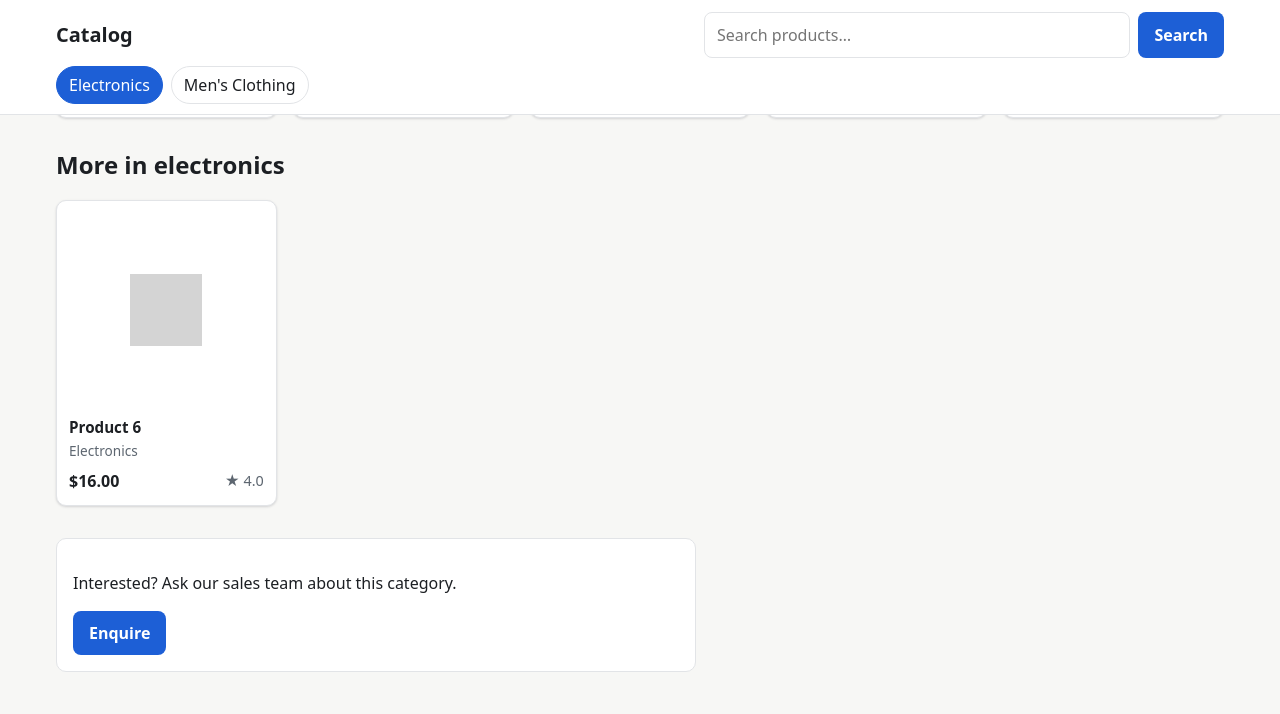
Test: Category page › renders top-rated and additional sections and a category enquiry form
(page scrolled)
Step 1. Click the button "Enquire" → x=120, y=633, box [73,611,166,655]
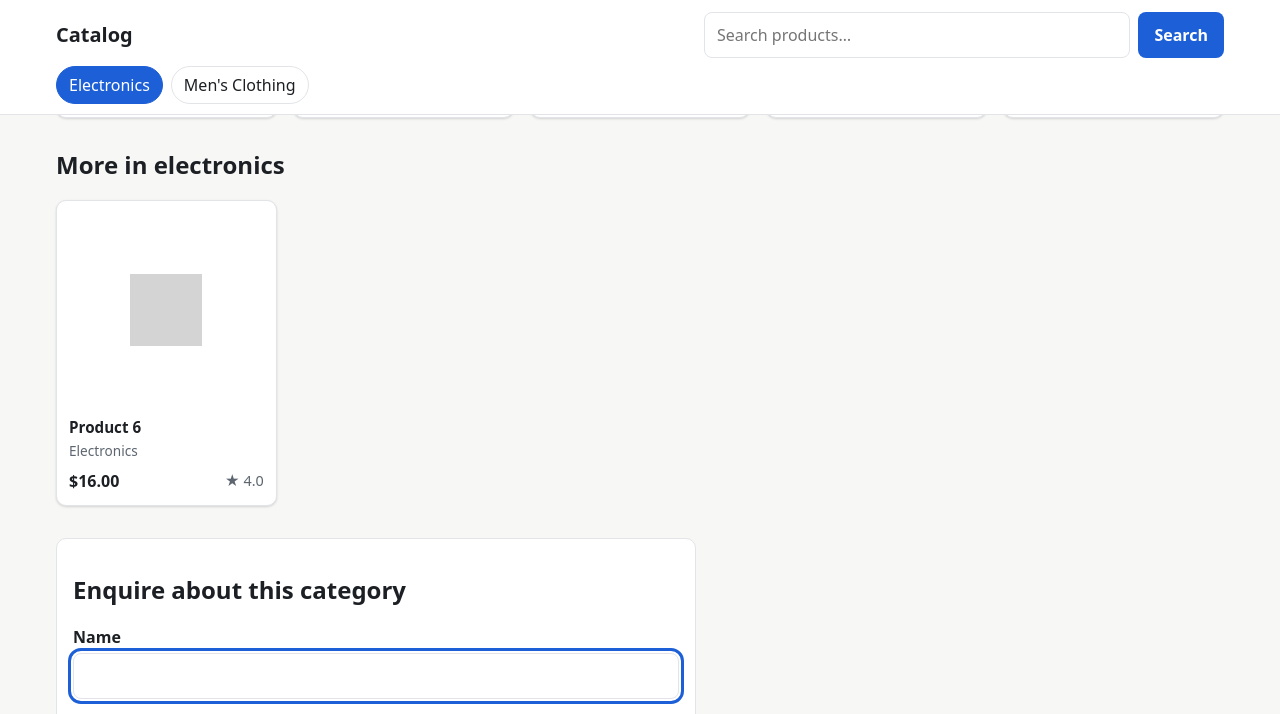
expect the heading "Enquire about this category" is shown: met, box [73,573,406,606]
